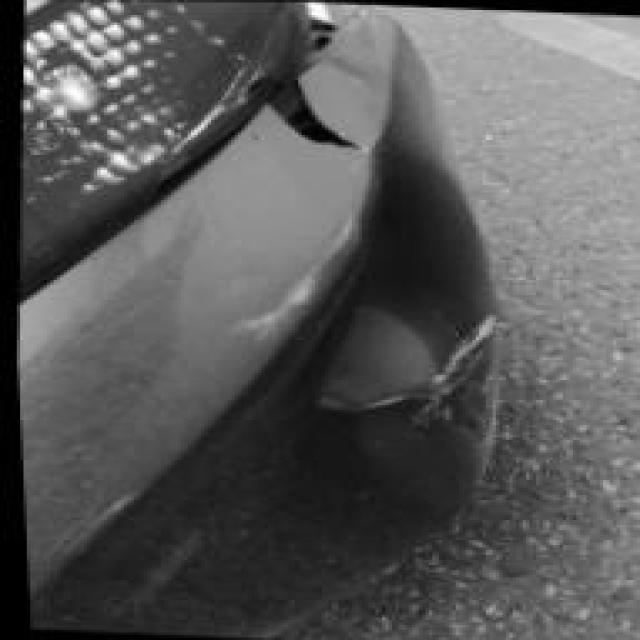Bumper: (15, 12, 494, 521)
